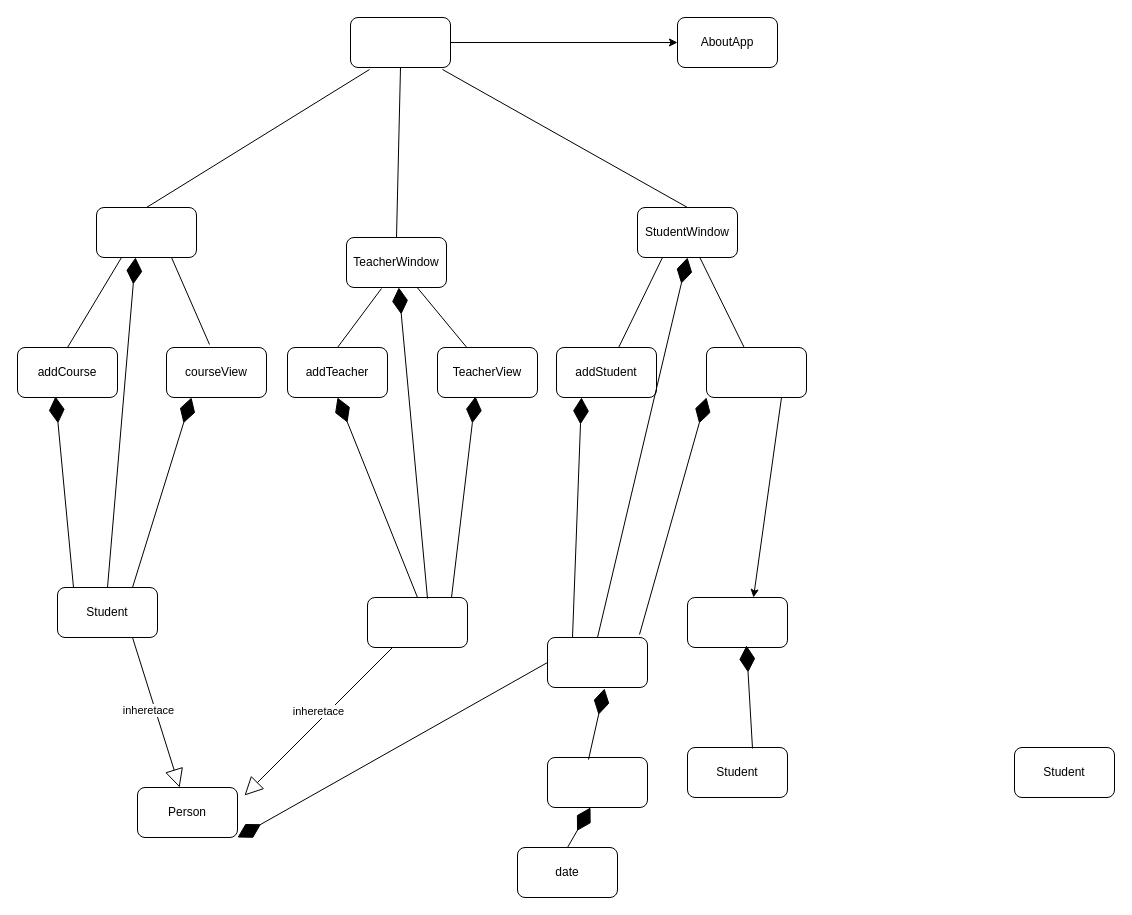
Some shapes in this 1132 by 915 pixel diagram are drawn without their labels. Here are the shapes that lost their labels. From the top down, the centre of each, then its label:
[400,42]: ma inWindow
[146,232]: CourseWindow
[756,372]: studentView
[417,622]: Teacher
[737,622]: editExam
[597,662]: course
[597,782]: Exam
